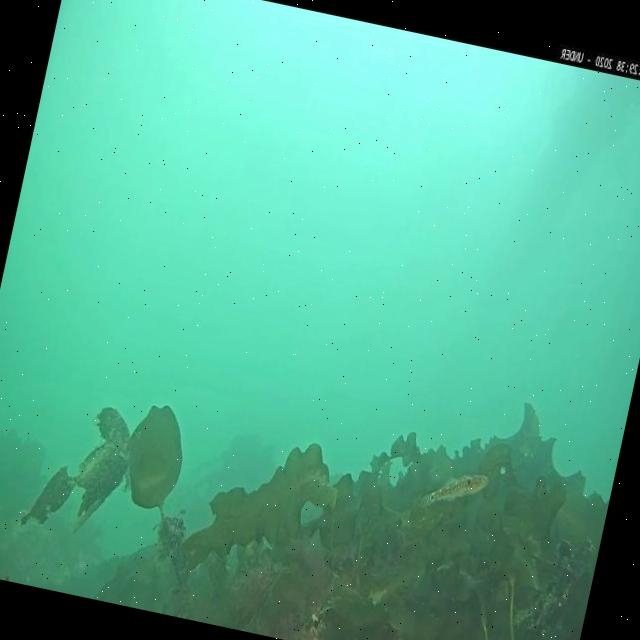fish: (412, 459, 491, 524)
